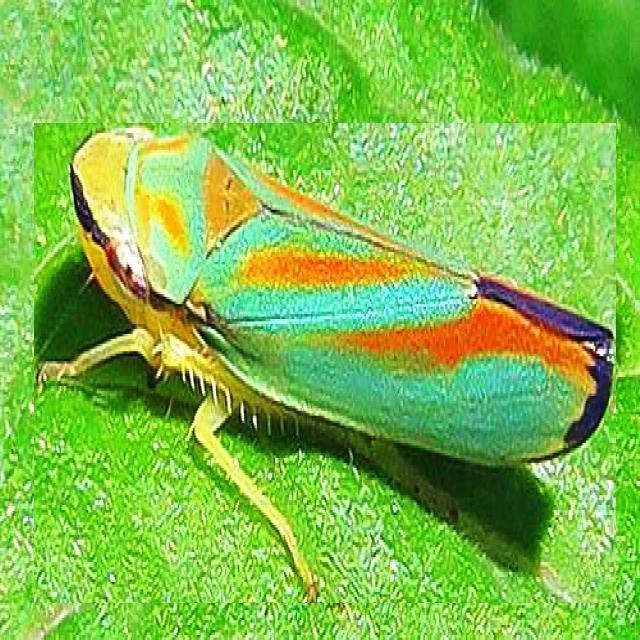green-leafhopper: (34, 124, 616, 603)
